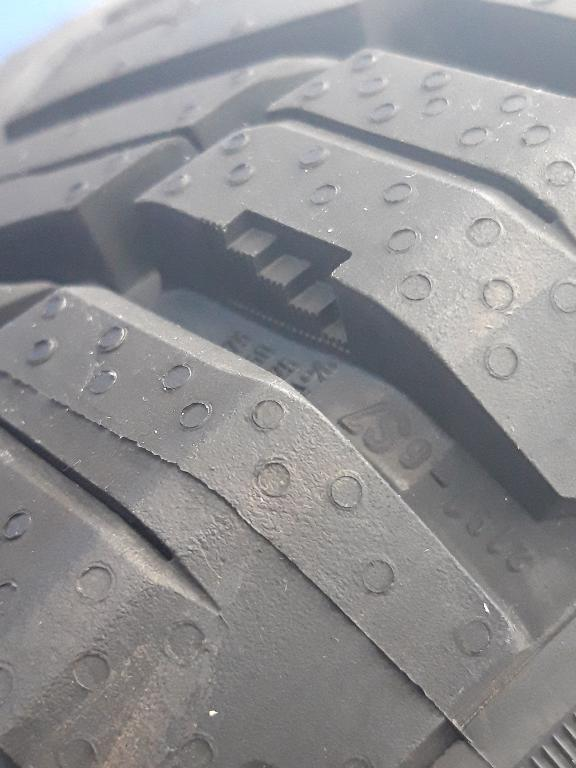temoin:100: (194, 205, 358, 361)
